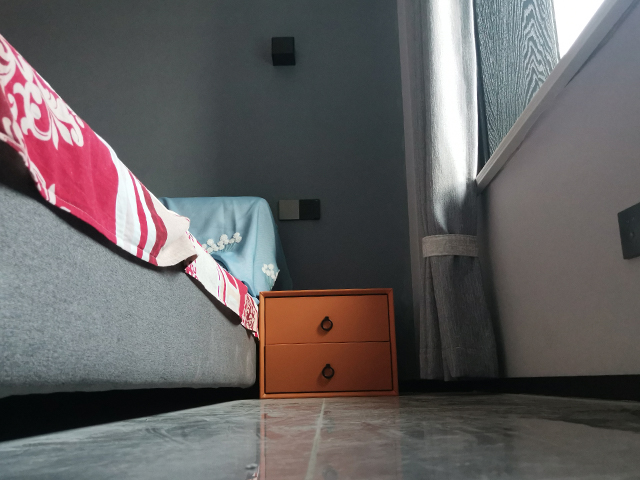bed: (1, 32, 294, 406)
curtain: (392, 1, 505, 383)
